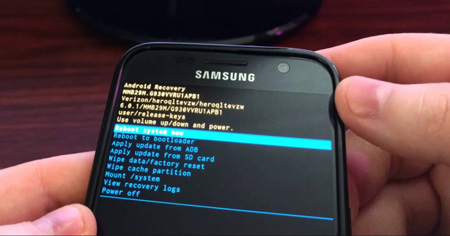Phone: (83, 41, 354, 236)
